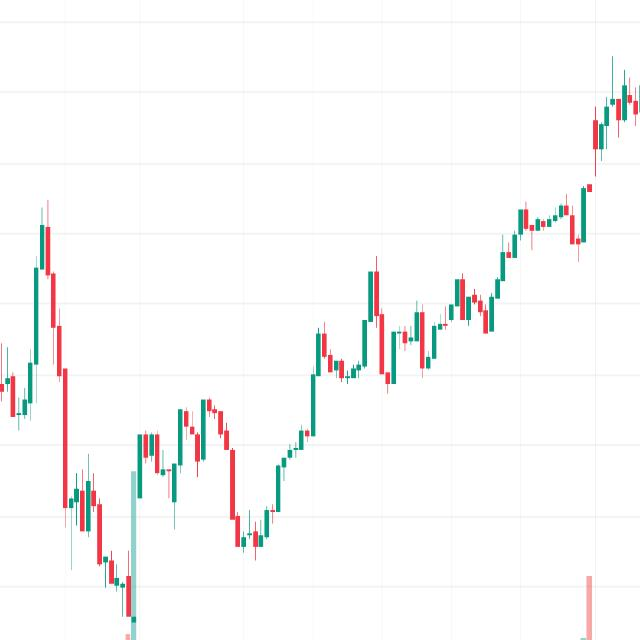Triple-Top: (128, 388, 240, 498)
